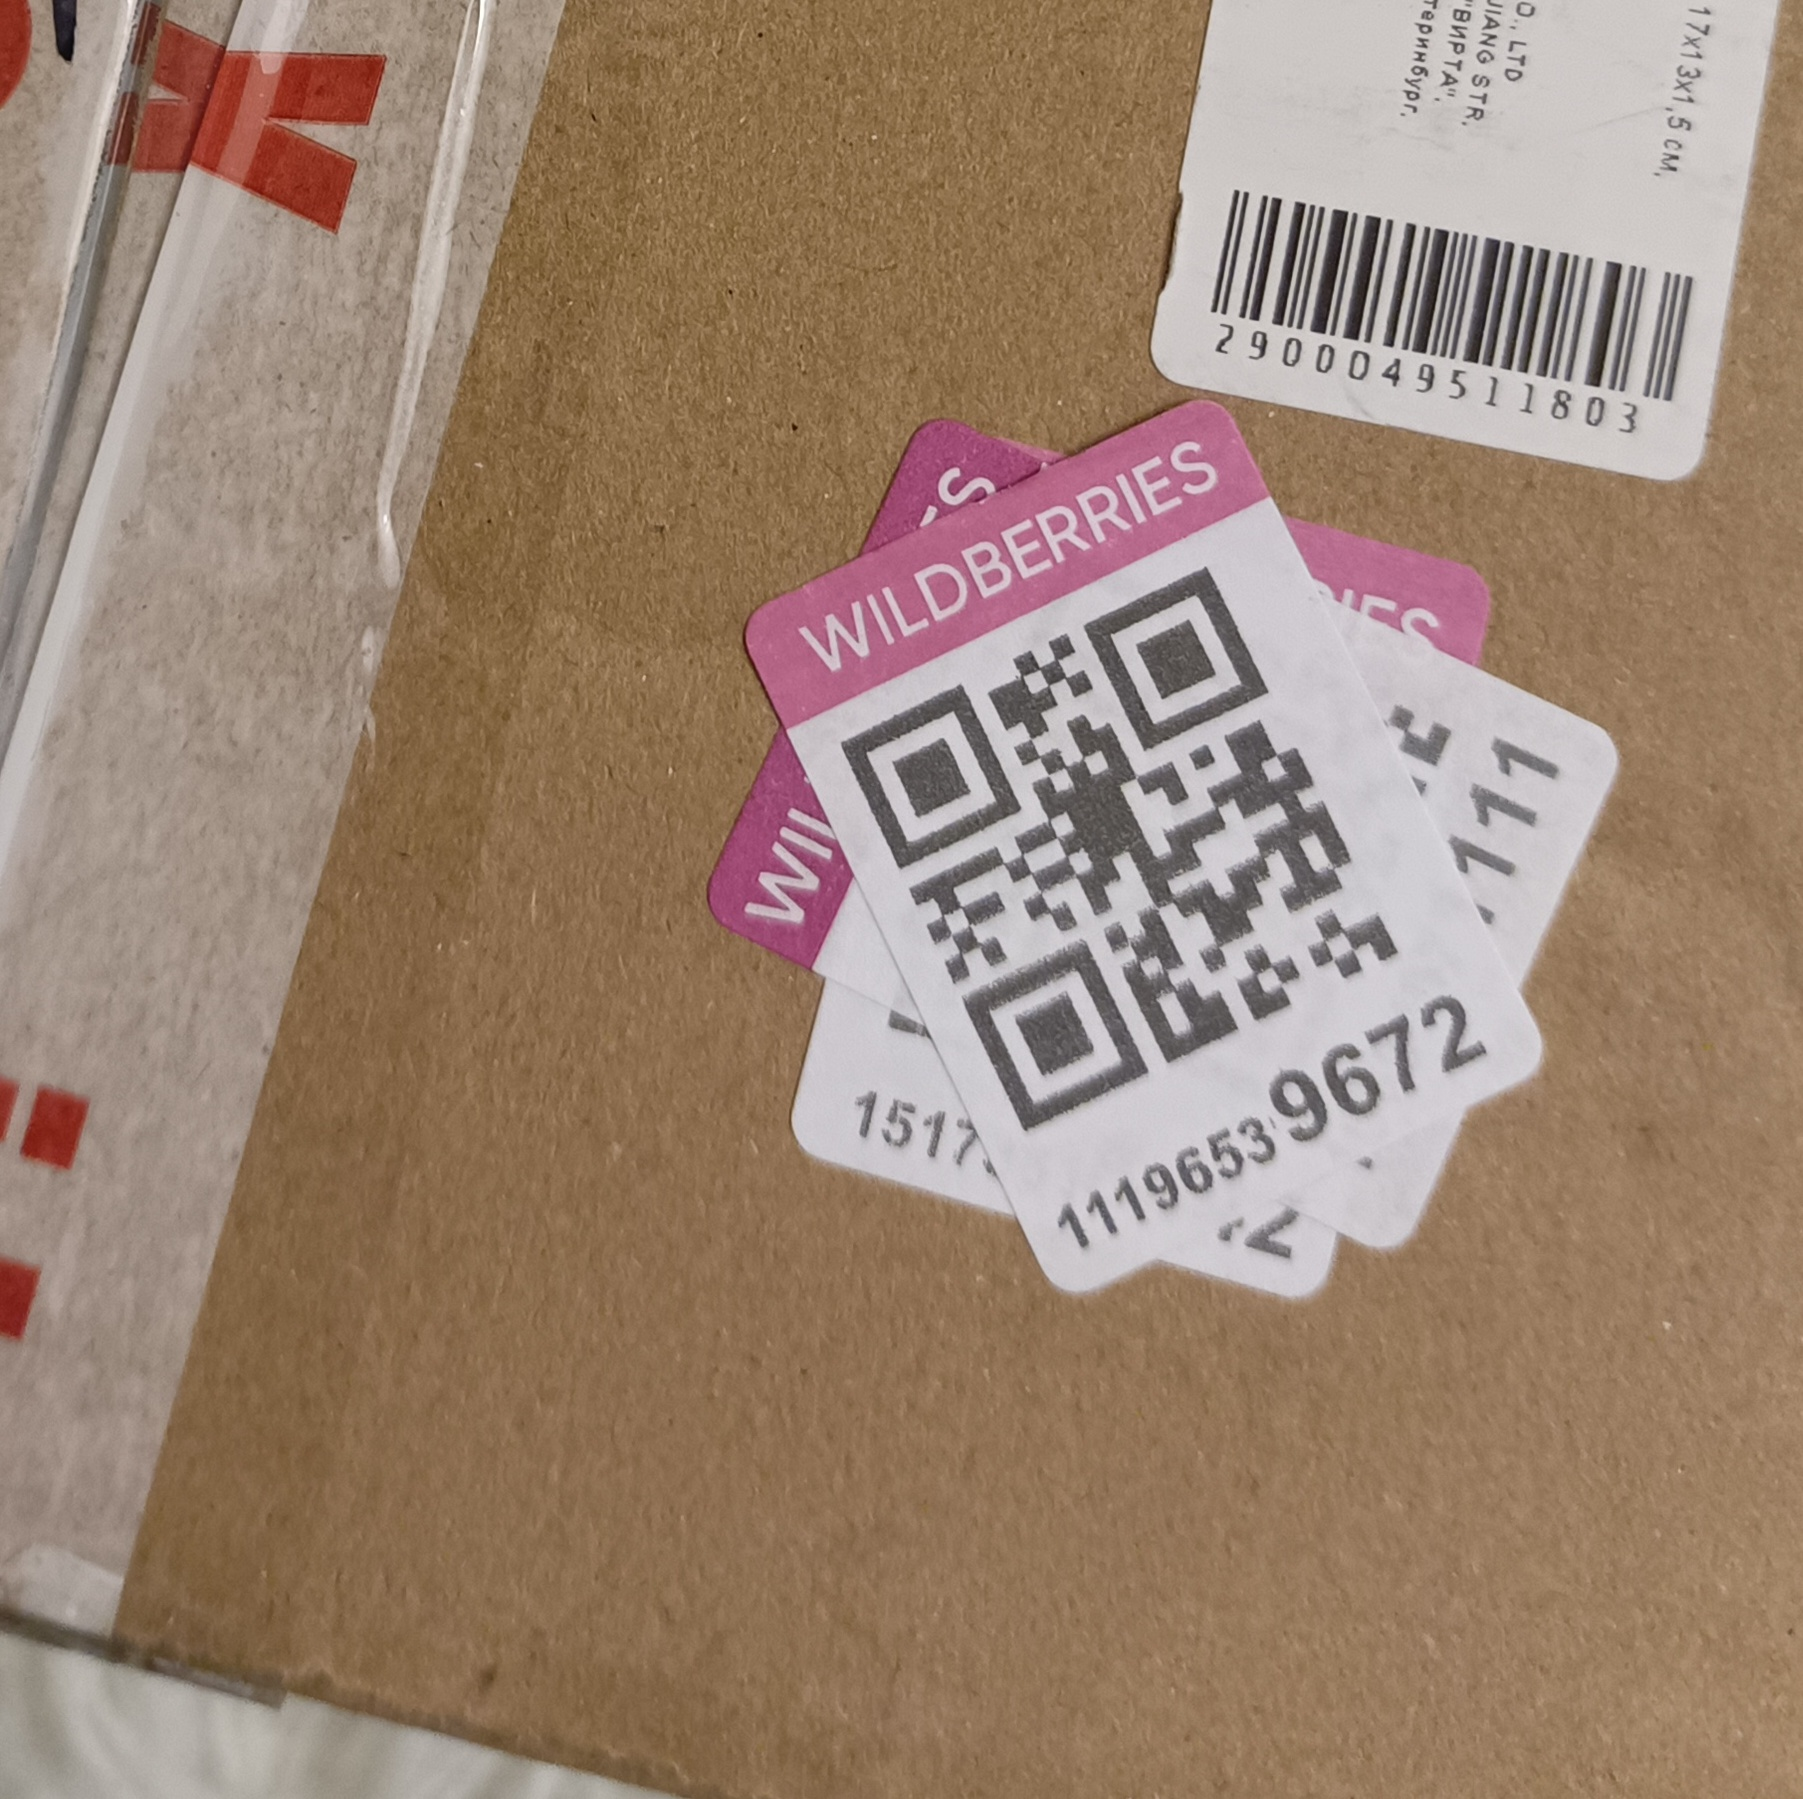2d: (832, 557, 1406, 1128)
